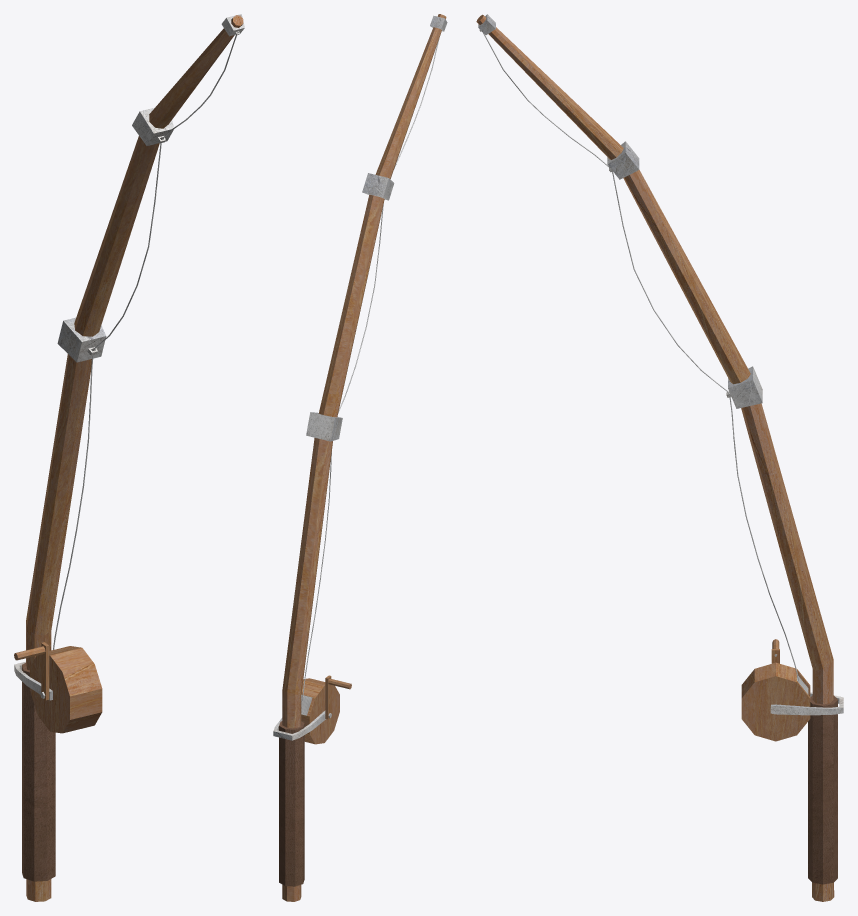
File: FishingRod.fbx
The picture shows the model from 3 angles, left to right: view 1: azimuth 30°, elevation 25°; view 2: azimuth 150°, elevation 25°; view 3: azimuth 270°, elevation 25°; orthographic projection. The views are drawn at different scales.
Parts seen in each view (by area): view 1: FishingRod; view 2: FishingRod; view 3: FishingRod.
Part boxes in pixels (x1,y1,x2,y2): FishingRod: [14, 14, 244, 901]; FishingRod: [273, 14, 447, 901]; FishingRod: [476, 14, 843, 901].
Size of the model in its own units: 8.51 by 119 by 45.04.
